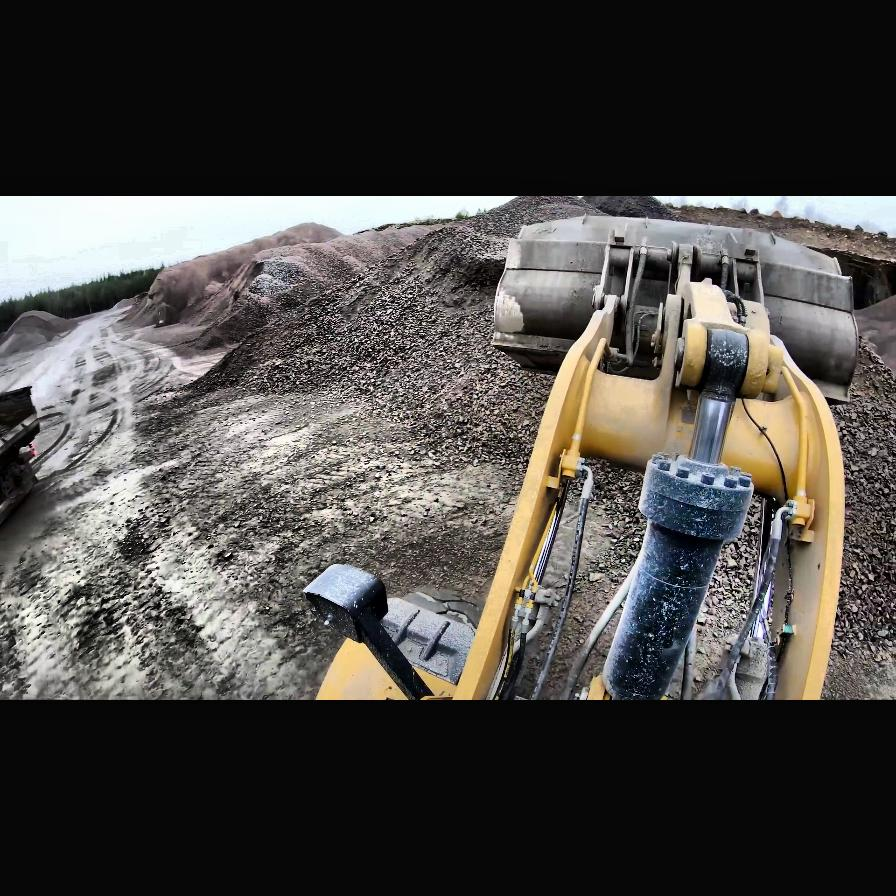anchor: (679, 320, 773, 400)
pile of gravel: (181, 196, 896, 470), (131, 222, 348, 334), (0, 310, 80, 354)
